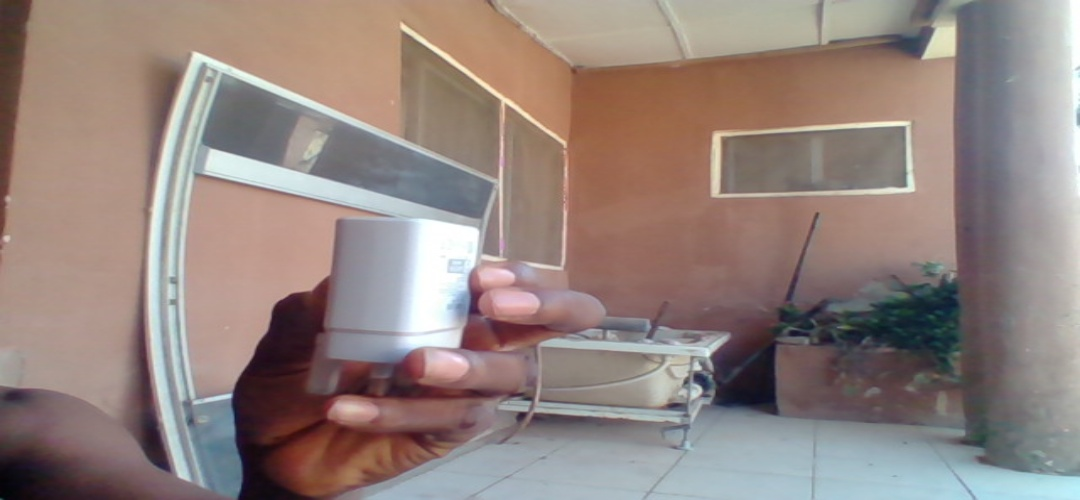phone_charger: (312, 211, 493, 384)
